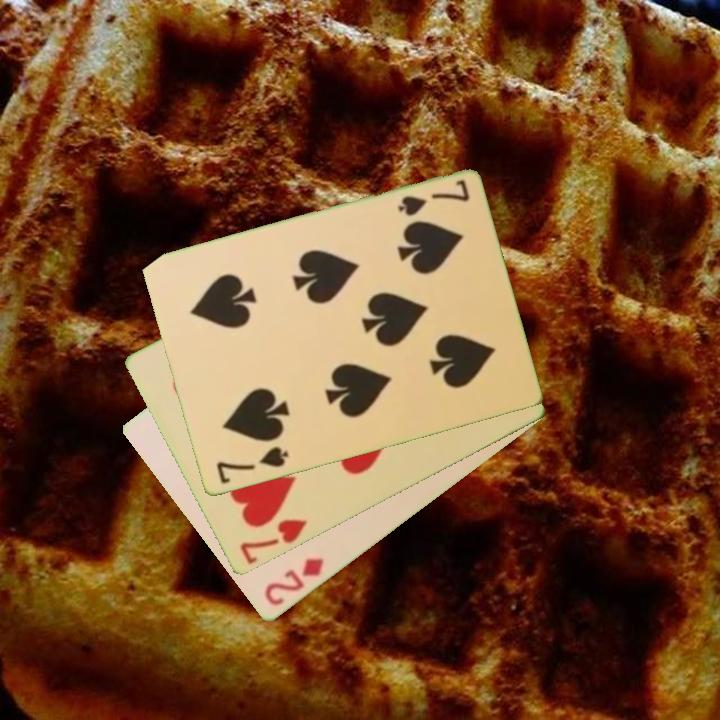2d: (260, 555, 327, 610)
7h: (236, 516, 311, 568)
7s: (212, 443, 292, 487), (393, 176, 472, 220)
